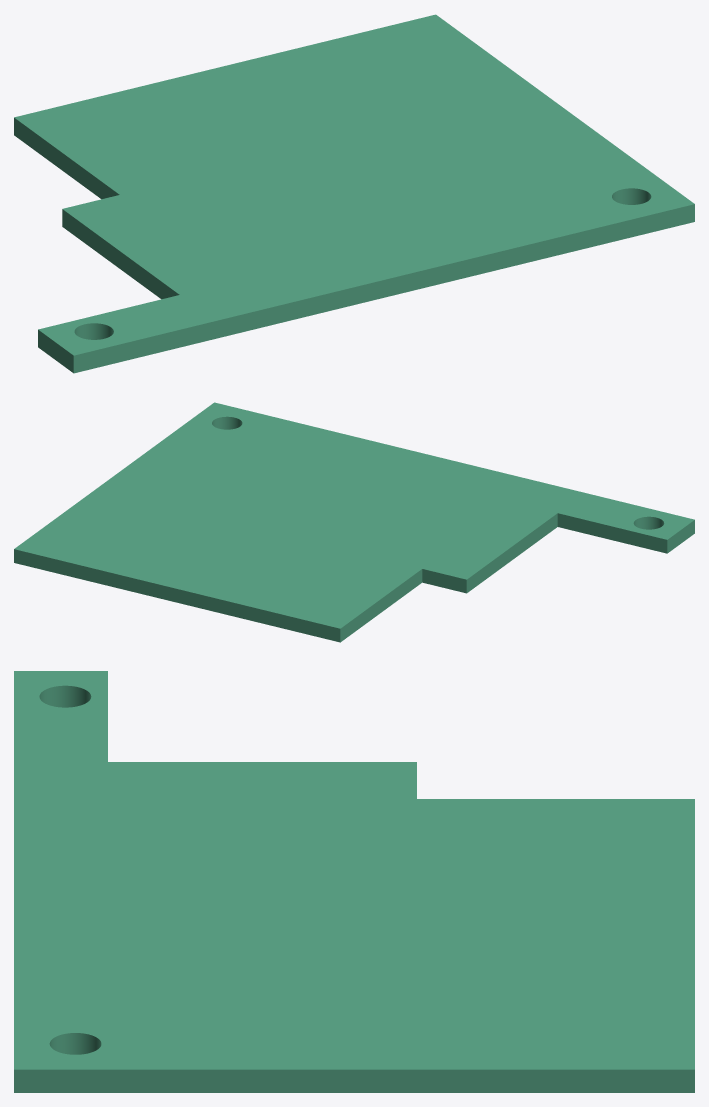
File: board.glb
3 renders of one model, top to bottom at view 1: azimuth 30°, elevation 25°; view 2: azimuth 150°, elevation 25°; view 3: azimuth 270°, elevation 25°, orthographic. The views are drawn at different scales.
Parts seen in each view (by area): view 1: =>[0:1:1:4]; view 2: =>[0:1:1:4]; view 3: =>[0:1:1:4].
Part boxes in pixels (bbox=[...]): =>[0:1:1:4]: bbox=[14, 14, 694, 373]; =>[0:1:1:4]: bbox=[14, 402, 694, 642]; =>[0:1:1:4]: bbox=[14, 671, 694, 1092].
Bounding box in the file's own units: 0.0583 × 0.0016 × 0.0421.
